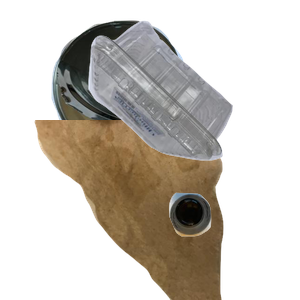glass: (166, 190, 300, 300)
metal: (49, 18, 229, 164)
plastic: (86, 18, 300, 171)
trash: (32, 120, 248, 300)
